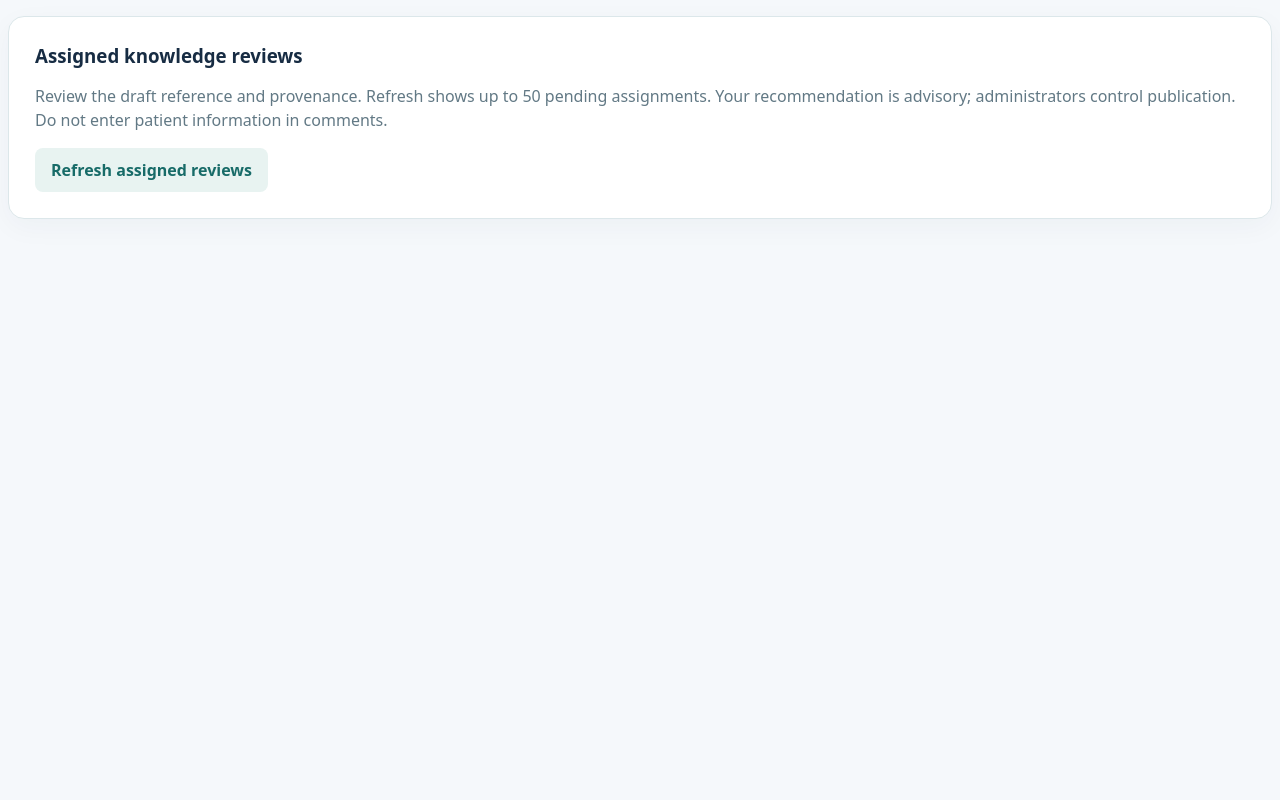
Test case: prevents review submission when the assigned source changed
Click the button "Refresh assigned reviews" at (151, 170), box [35,148,268,192]
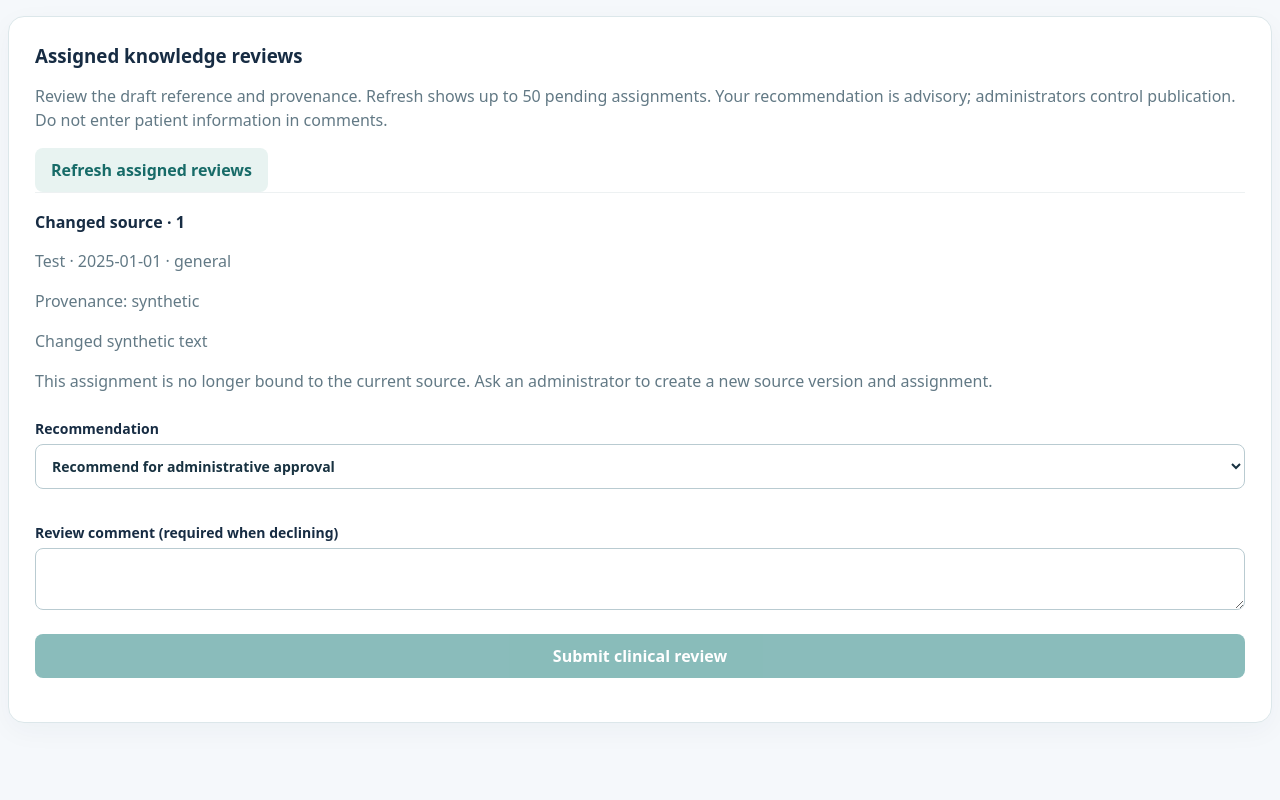
Now the text "assignment is no longer bound" is shown, box [35,370,993,392]
Now the button "Submit clinical review" is disabled, box [35,634,1245,678]
